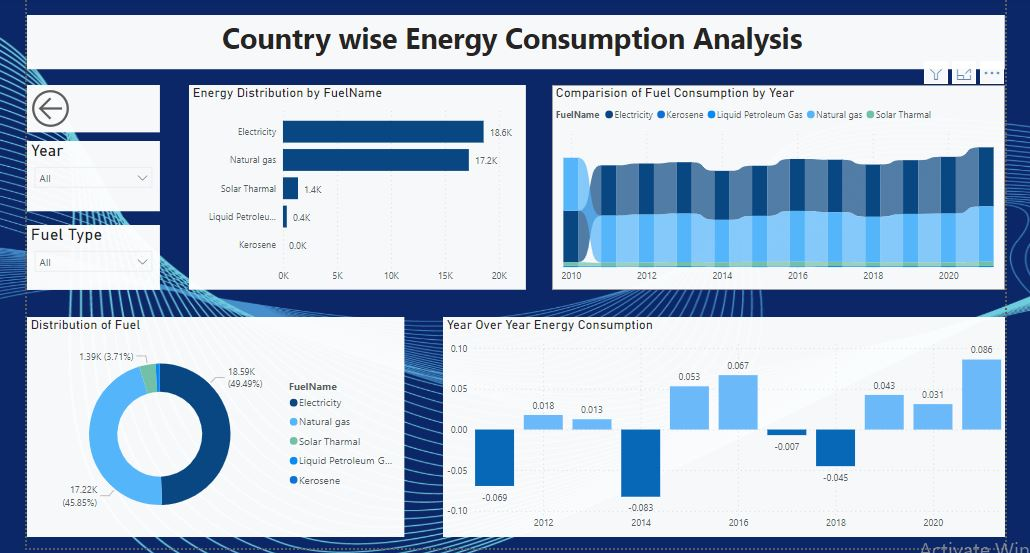

What the dashboard file says about the page in this screenshot:
{"tool":"powerbi","page":{"name":"CountrywiseDataAnalysis","canvas":[1280,720],"ordinal":1},"visuals":[{"type":"ribbonChart","title":"Comparision of Fuel Consumption by Year","fields":{"Series":["Fuel_Type.FuelName"],"Category":["ten00125__custom_7257799_linear (2).TIME_PERIOD"],"Y":["Sum(ten00125__custom_7257799_linear (2).OBS_VALUE)"]},"box":[687.3,113.9,593,268.4],"z":0},{"type":"actionButton","box":[0,113.9,174.1,61.5],"z":1000},{"type":"clusteredBarChart","title":"Energy Distribution by FuelName","fields":{"Y":["Sum(ten00125__custom_7257799_linear (2).OBS_VALUE)"],"Category":["Fuel_Type.FuelName"]},"box":[212.1,113.9,441.2,268.4],"z":2000},{"type":"donutChart","title":"Distribution of Fuel ","fields":{"Category":["Fuel_Type.FuelName"],"Y":["Sum(ten00125__custom_7257799_linear (2).OBS_VALUE)"]},"box":[0,417.6,493.5,288],"z":2001},{"type":"clusteredColumnChart","title":"Year Over Year Energy Consumption ","fields":{"Category":["ten00125__custom_7257799_linear (2).TIME_PERIOD"],"Y":["Measured Value Table.YoY_percent_change"]},"box":[544.6,417.6,735.7,288],"z":2002},{"type":"slicer","title":"Year","fields":{"Values":["ten00125__custom_7257799_linear (2).TIME_PERIOD"]},"box":[0,187.2,174.1,91.6],"z":2003},{"type":"slicer","title":"Fuel Type","fields":{"Values":["Fuel_Type.FuelName"]},"box":[0,297.2,174.1,85.1],"z":2004},{"type":"textbox","box":[0,22.3,1280.3,70.7],"z":2005}]}

Visuals, with their boxes in screenshot pixels (x1, y1, x2, y2):
"Comparision of Fuel Consumption by Year" ribbonChart: locate(550, 84, 998, 287)
actionButton: locate(30, 84, 161, 130)
"Energy Distribution by FuelName" clusteredBarChart: locate(190, 84, 524, 287)
"Distribution of Fuel " donutChart: locate(30, 313, 403, 531)
"Year Over Year Energy Consumption " clusteredColumnChart: locate(442, 313, 998, 531)
"Year" slicer: locate(30, 139, 161, 208)
"Fuel Type" slicer: locate(30, 222, 161, 287)
textbox: locate(30, 14, 998, 68)
